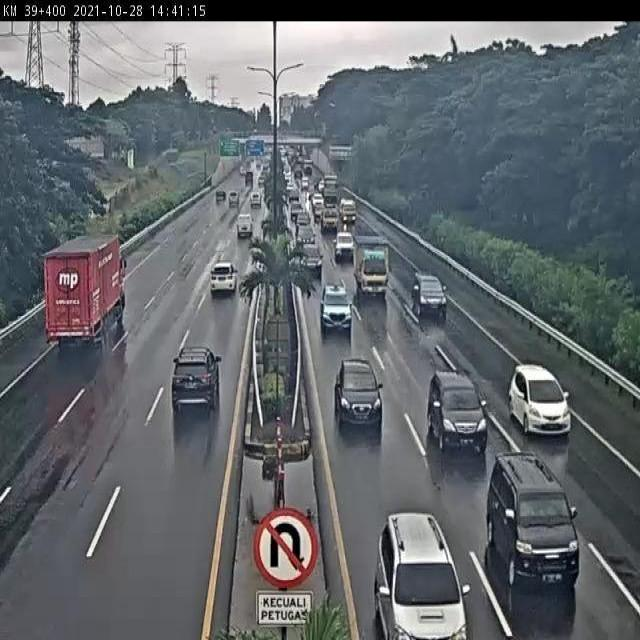car: (486, 452, 581, 587), (427, 371, 490, 453), (508, 364, 572, 436), (334, 359, 383, 428), (172, 347, 220, 413), (320, 284, 353, 335), (412, 272, 448, 315), (210, 261, 237, 292), (300, 243, 322, 276)
mid truck: (43, 233, 125, 343)
truck-m-: (352, 234, 389, 294)
